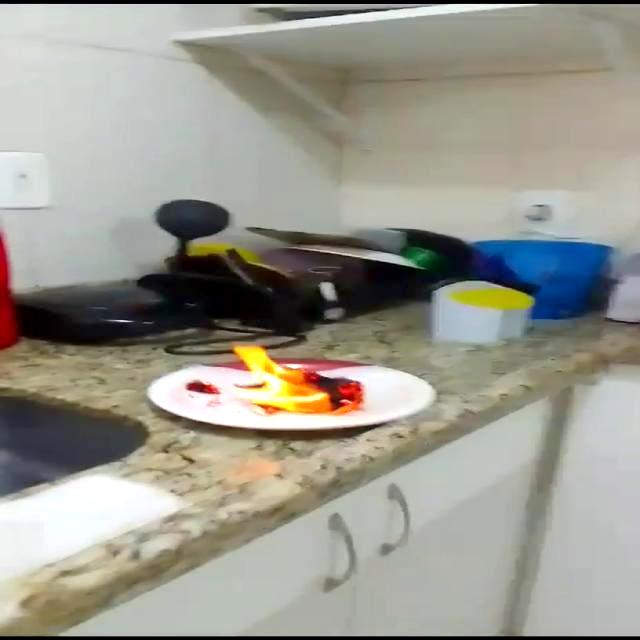fire: (227, 344, 365, 420)
